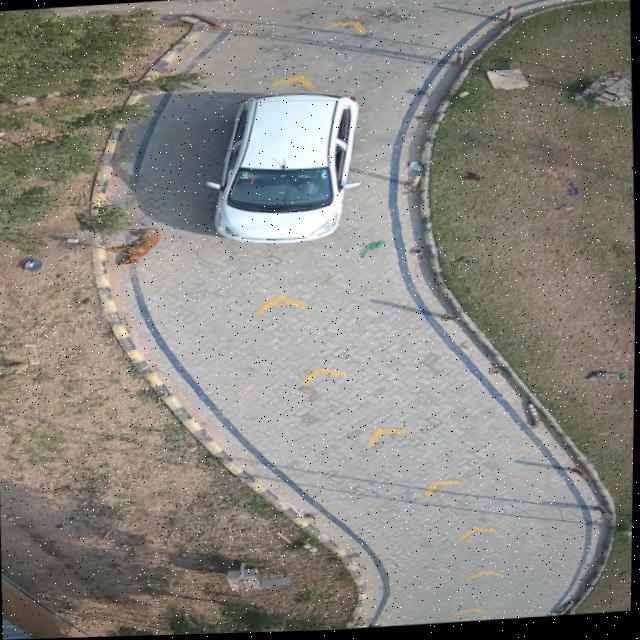car: (212, 93, 358, 246)
